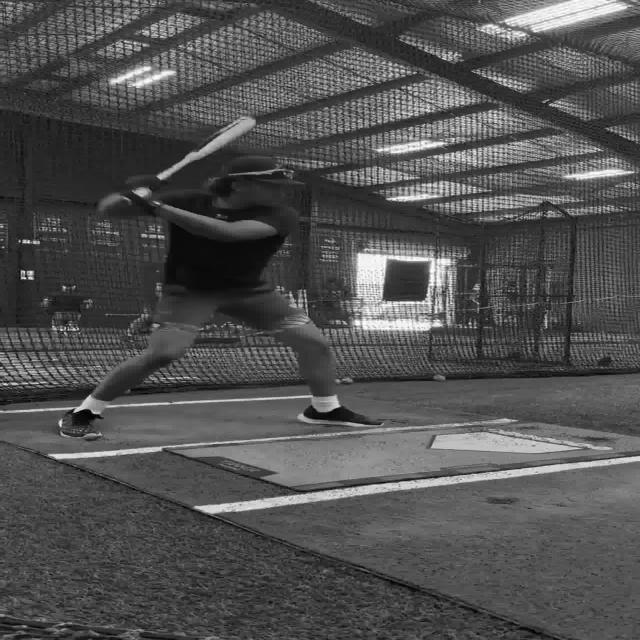base: (430, 432, 591, 452)
baseball: (432, 374, 446, 382), (339, 377, 353, 384)
bat: (154, 115, 257, 181)
shoe: (296, 404, 384, 426), (57, 408, 103, 440)
